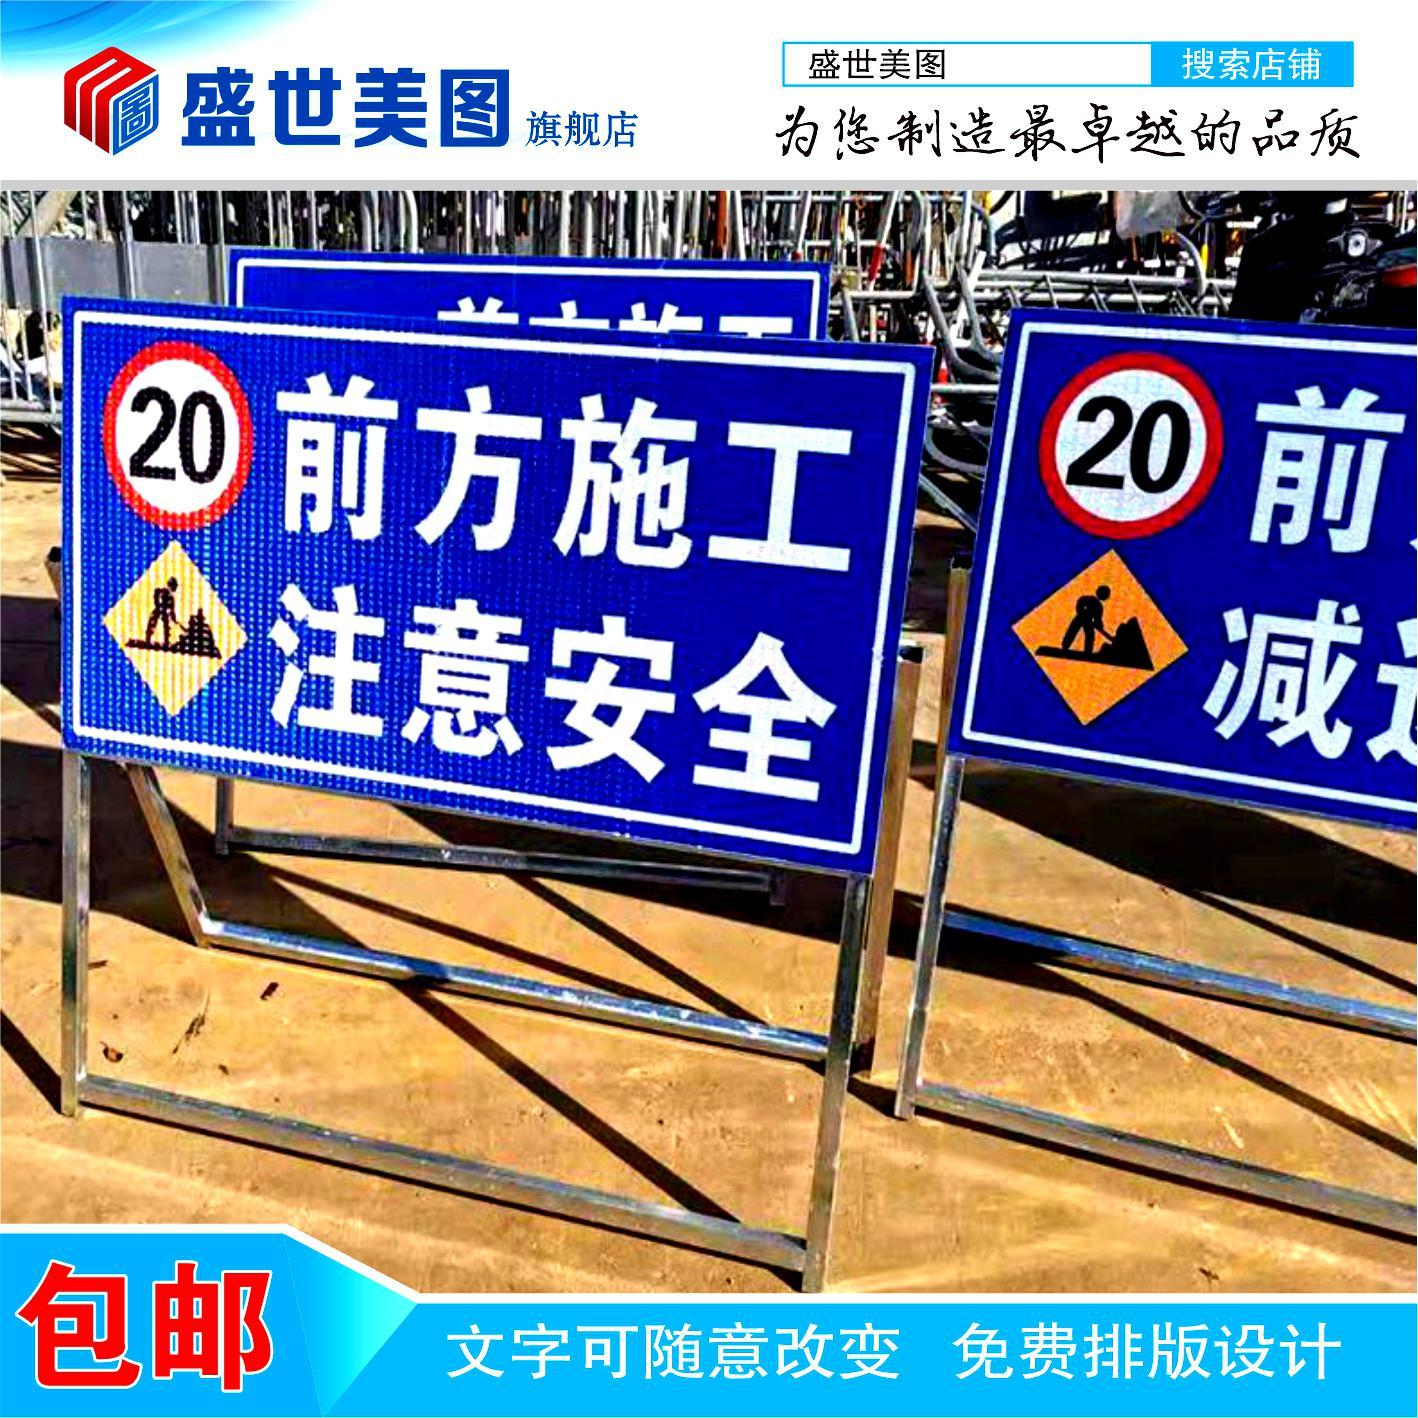sign: (47, 322, 891, 851), (966, 322, 1418, 790)
